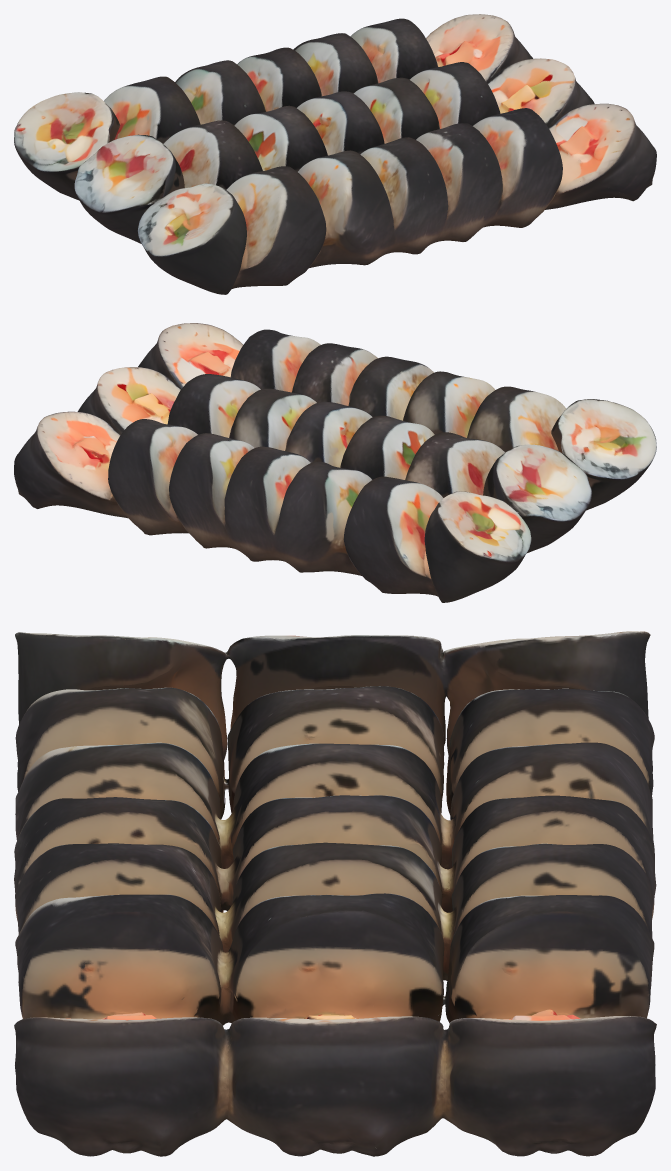
Rendered from asian_plat2_shaded.glb.
3 renders of one model, top to bottom at view 1: azimuth 30°, elevation 25°; view 2: azimuth 150°, elevation 25°; view 3: azimuth 270°, elevation 25°, orthographic. The views are drawn at different scales.
Parts seen in each view (by area): view 1: model; view 2: model; view 3: model.
Boxes of the visible parts, x1,y1,x2,y2 form: model: (14,14,656,294); model: (14,323,656,602); model: (14,631,656,1156).
Size of the model in its own units: 1.89 by 0.3272 by 1.19.
1 material, 1 textured.
